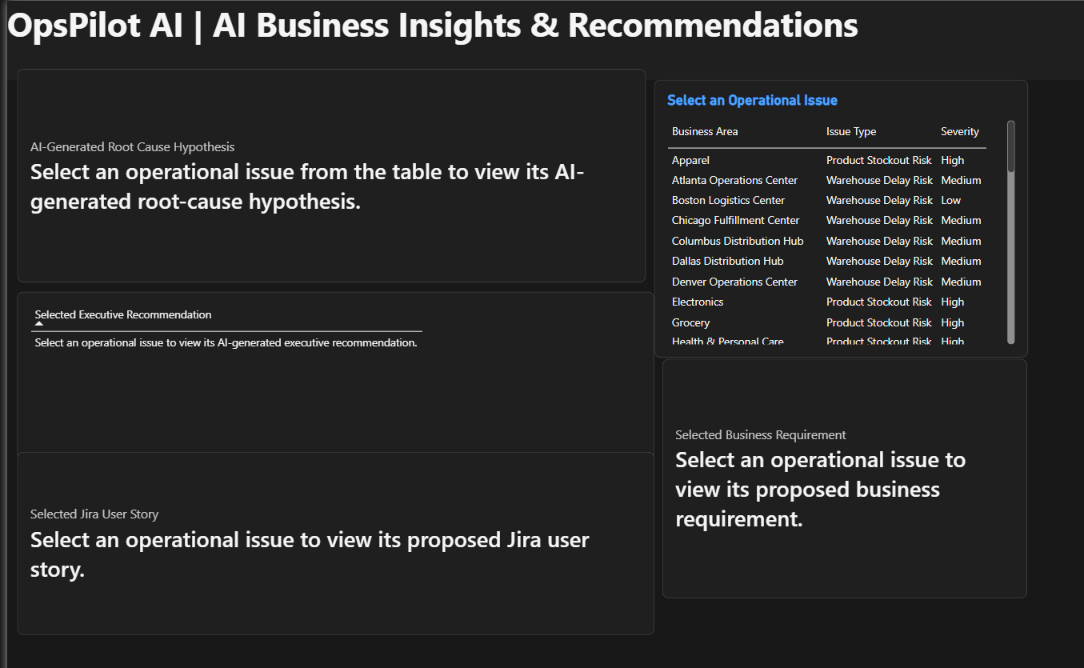

The page's visual inventory and layout, read from the dashboard file:
{"tool":"powerbi","page":{"name":"AI Business Insights & Recommendations","canvas":[1920,1080],"ordinal":4},"visuals":[{"type":"textbox","box":[0,0,1402.4,101.2],"z":0},{"type":"tableEx","title":"Select an Operational Issue","fields":{"Values":["ai_business_outputs.business_area","ai_business_outputs.issue_type","ai_business_outputs.severity"]},"box":[829.3,101.2,479.3,356.1],"z":1000},{"type":"cardVisual","title":"AI-Generated Root Cause Hypothesis","fields":{"Data":["ai_business_outputs.Selected Root Cause Hypothesis"]},"box":[12.2,86.6,806.1,274.4],"z":2000},{"type":"tableEx","fields":{"Values":["ai_business_outputs.Selected Executive Recommendation"]},"box":[13.4,373.2,817.1,215.9],"z":2002},{"type":"cardVisual","fields":{"Data":["ai_business_outputs.Selected Business Requirement"]},"box":[840.2,458.5,468.3,307.3],"z":2003},{"type":"cardVisual","fields":{"Data":["ai_business_outputs.Selected Jira User Story"]},"box":[12.2,578,817.1,235.4],"z":2004}]}

Visuals, with their boxes on the page's 1920x1080 design canvas (x1, y1, x2, y2). These are canvas units, not pixel positions in the 1084x668 screenshot, which may show the page scaled, cropped or inside an application window:
textbox: region(0, 0, 1402, 101)
"Select an Operational Issue" tableEx: region(829, 101, 1309, 457)
"AI-Generated Root Cause Hypothesis" cardVisual: region(12, 87, 818, 361)
tableEx - ai_business_outputs.Selected Executive Recommendation: region(13, 373, 830, 589)
cardVisual - ai_business_outputs.Selected Business Requirement: region(840, 458, 1308, 766)
cardVisual - ai_business_outputs.Selected Jira User Story: region(12, 578, 829, 813)
